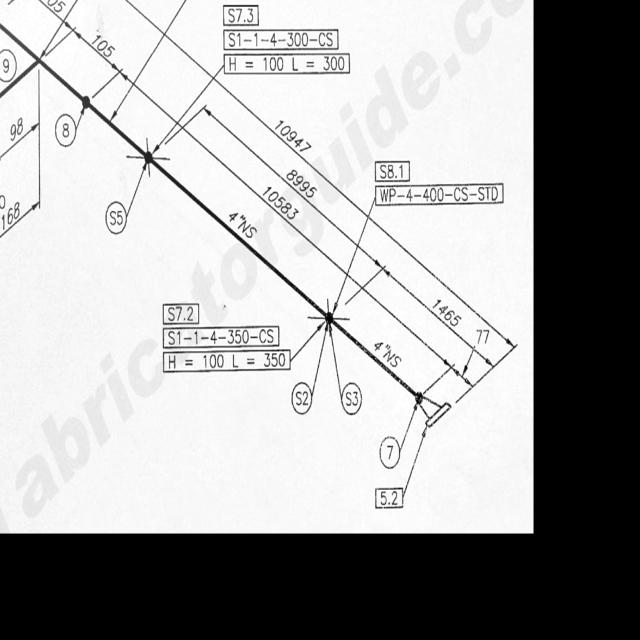Item number: (376, 182, 505, 207), (221, 28, 342, 53), (161, 300, 201, 327), (373, 158, 411, 186), (221, 2, 259, 28), (373, 485, 405, 510), (476, 325, 492, 343)
Measrement: (184, 120, 460, 374), (42, 5, 184, 131), (378, 260, 494, 366), (1, 181, 40, 243), (1, 111, 39, 163)
Pipeline: (1, 20, 425, 407)
Weld number: (378, 433, 402, 471), (341, 379, 364, 418), (104, 199, 128, 236), (54, 111, 76, 149), (291, 381, 313, 417), (1, 47, 18, 84)
